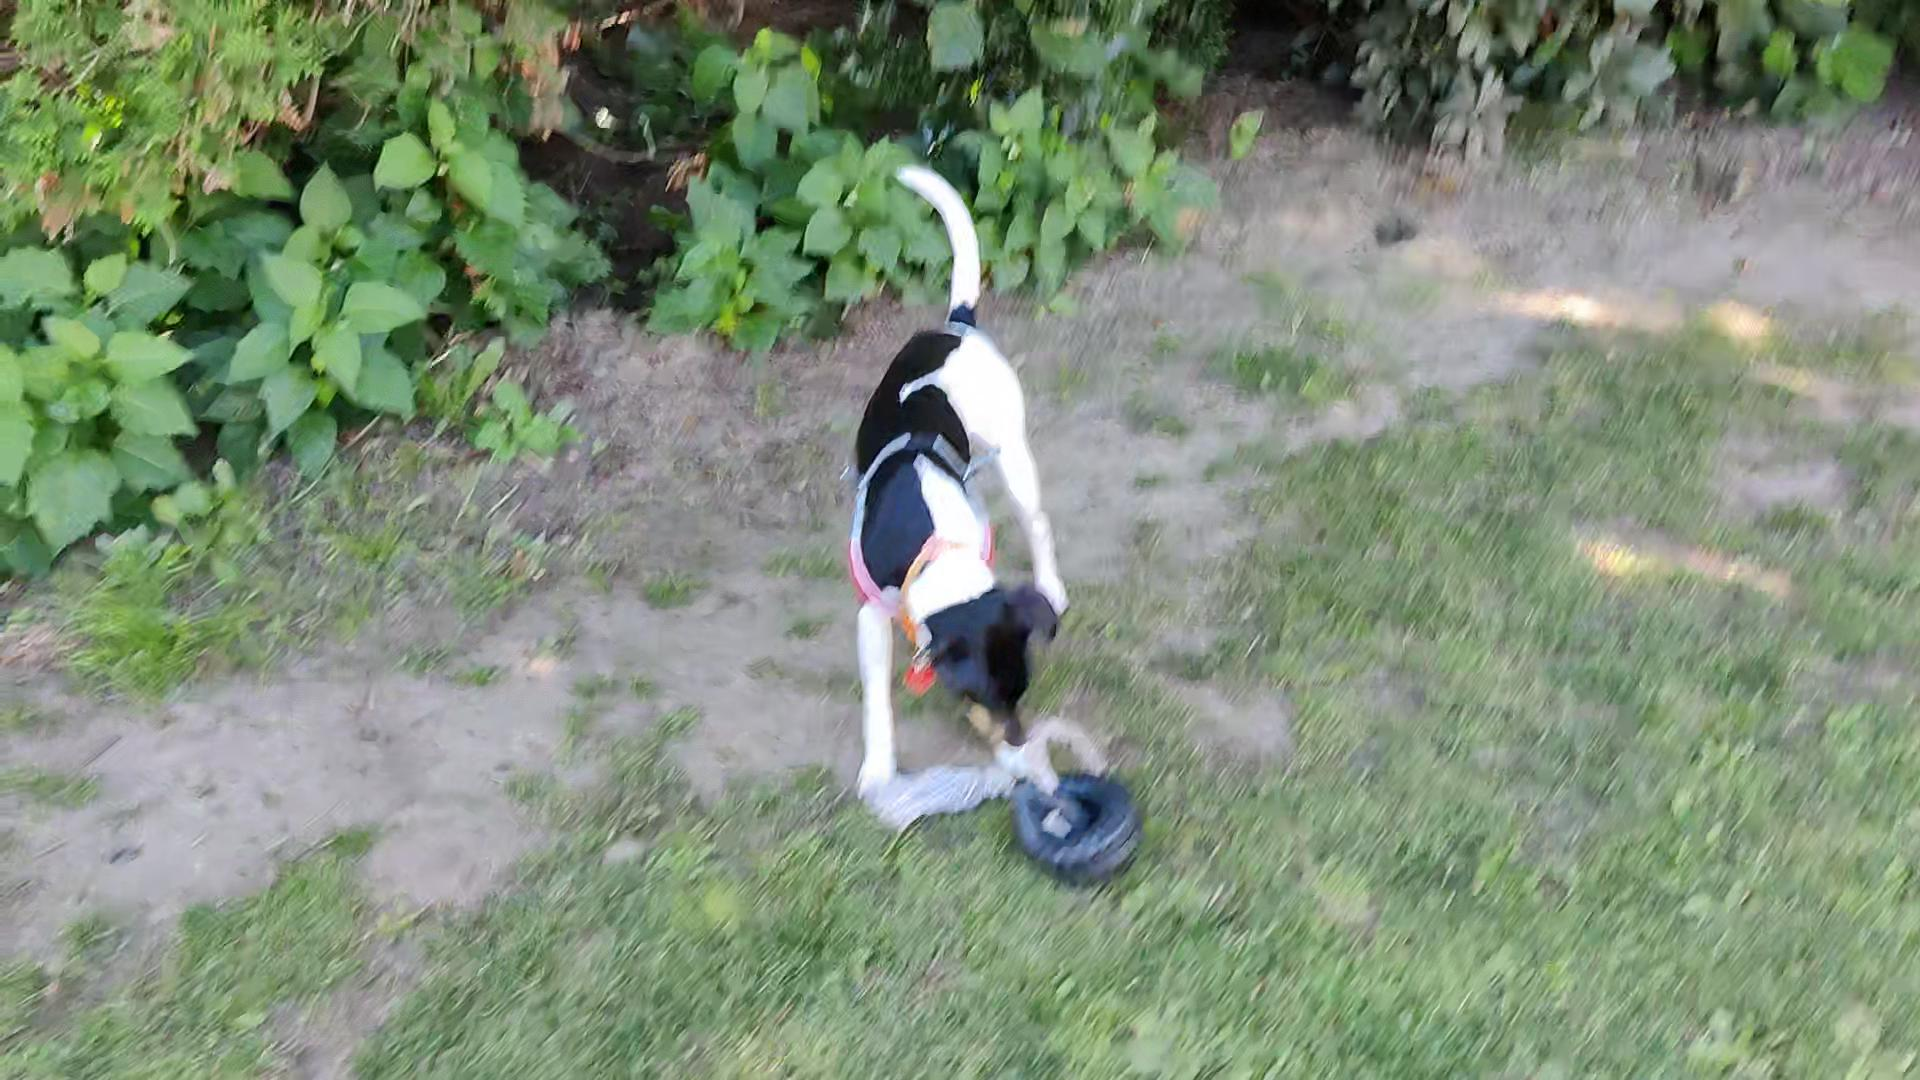Dog: (844, 164, 1091, 825)
